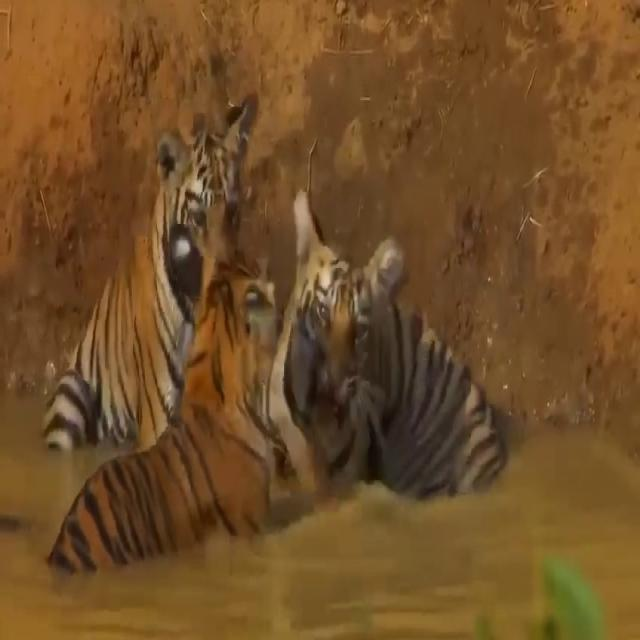tiger: (41, 88, 264, 454), (268, 188, 512, 498), (46, 273, 278, 577)
